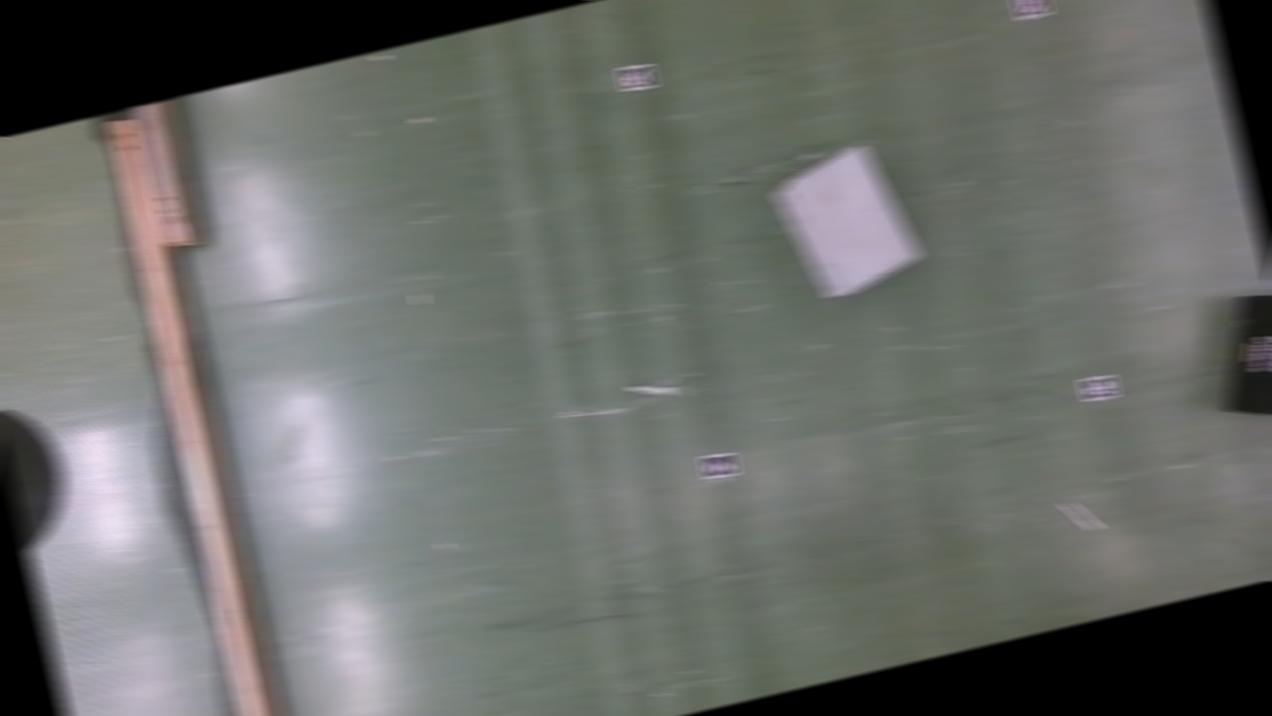probes: (616, 370, 678, 410), (1063, 497, 1098, 534)
rako: (765, 138, 926, 308), (1198, 289, 1272, 434)
